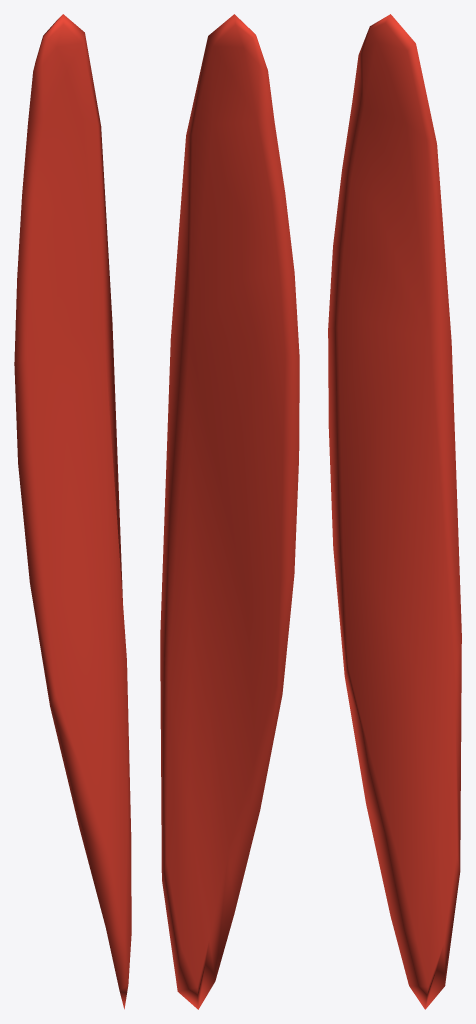
The model's file is Fibularis_tertius-Origin_Generated_Mesh_From_X3D.824.glb.
The picture shows the model from 3 angles, left to right: view 1: azimuth 30°, elevation 25°; view 2: azimuth 150°, elevation 25°; view 3: azimuth 330°, elevation 25°; orthographic projection. The views are drawn at different scales.
Visible parts, largest first — view 1: Fibularis_tertius-Origin_Generated_Mesh_From_X3D.824; view 2: Fibularis_tertius-Origin_Generated_Mesh_From_X3D.824; view 3: Fibularis_tertius-Origin_Generated_Mesh_From_X3D.824.
Boxes of the visible parts, <box> form: Fibularis_tertius-Origin_Generated_Mesh_From_X3D.824: <box>14,14,131,1009</box>; Fibularis_tertius-Origin_Generated_Mesh_From_X3D.824: <box>160,14,299,1009</box>; Fibularis_tertius-Origin_Generated_Mesh_From_X3D.824: <box>328,14,461,1009</box>.
Size of the model in its own units: 0.00418 by 0.032 by 0.00164.
